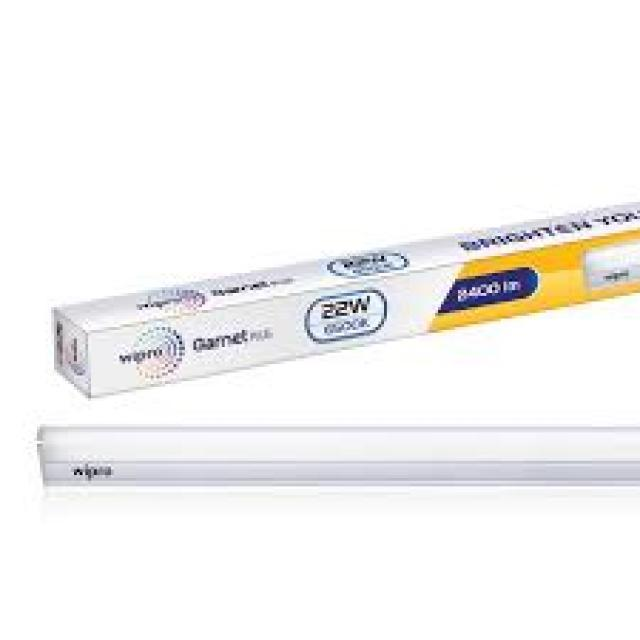tubelight_off: (33, 416, 640, 496), (584, 238, 640, 293)
